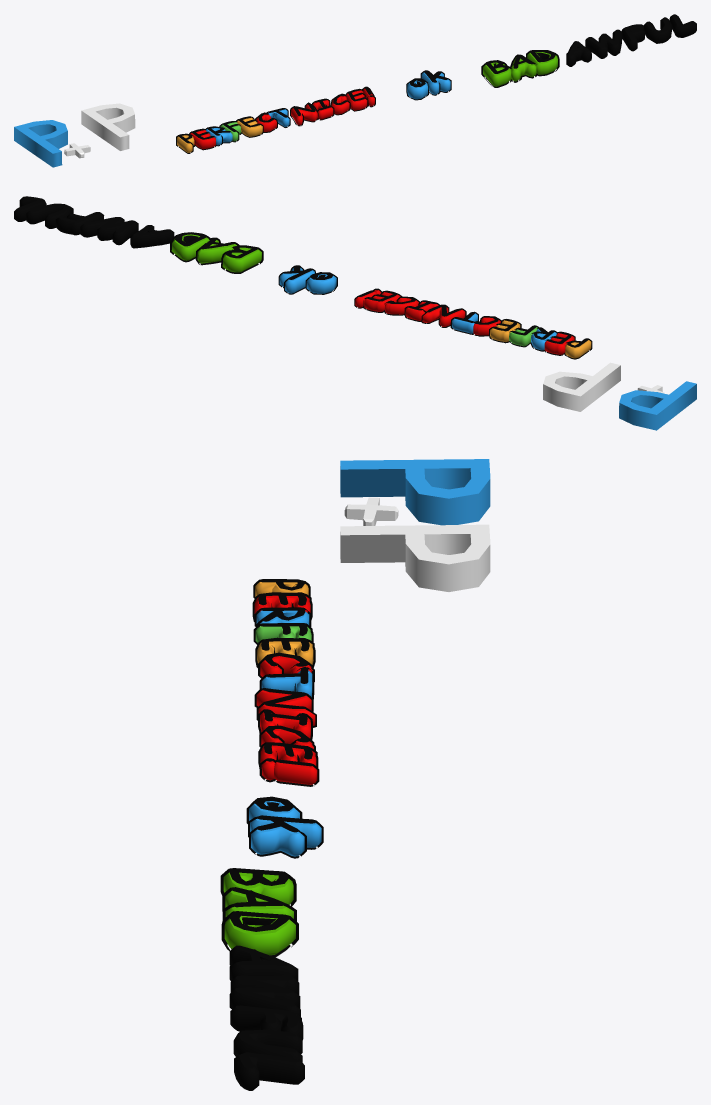
The model's file is RankLetters.fbx.
The picture shows the model from 3 angles, top to bottom: view 1: azimuth 30°, elevation 25°; view 2: azimuth 150°, elevation 25°; view 3: azimuth 270°, elevation 25°; orthographic projection. The views are drawn at different scales.
Parts seen in each view (by area): view 1: DRank, SRank, P2Rank, CRank, PRank, ARank, BRank; view 2: DRank, SRank, P2Rank, CRank, PRank, ARank, BRank; view 3: DRank, P2Rank, PRank, SRank, CRank, ARank, BRank.
Part boxes in pixels (bbox=[...]): DRank: bbox=[566, 14, 696, 66]; SRank: bbox=[176, 108, 290, 153]; P2Rank: bbox=[14, 120, 90, 167]; CRank: bbox=[481, 50, 559, 87]; PRank: bbox=[81, 103, 135, 150]; ARank: bbox=[290, 86, 375, 126]; BRank: bbox=[406, 70, 451, 100]; DRank: bbox=[14, 196, 174, 248]; SRank: bbox=[450, 311, 592, 359]; P2Rank: bbox=[619, 381, 696, 430]; CRank: bbox=[170, 232, 263, 273]; PRank: bbox=[543, 362, 620, 411]; ARank: bbox=[354, 288, 466, 327]; BRank: bbox=[278, 265, 337, 294]; DRank: bbox=[229, 945, 304, 1090]; P2Rank: bbox=[340, 459, 490, 525]; PRank: bbox=[340, 524, 490, 591]; SRank: bbox=[252, 579, 315, 699]; CRank: bbox=[220, 868, 298, 957]; ARank: bbox=[254, 688, 319, 786]; BRank: bbox=[246, 796, 323, 858].
Bounding box in the file's own units: 648 × 15.66 × 122.
